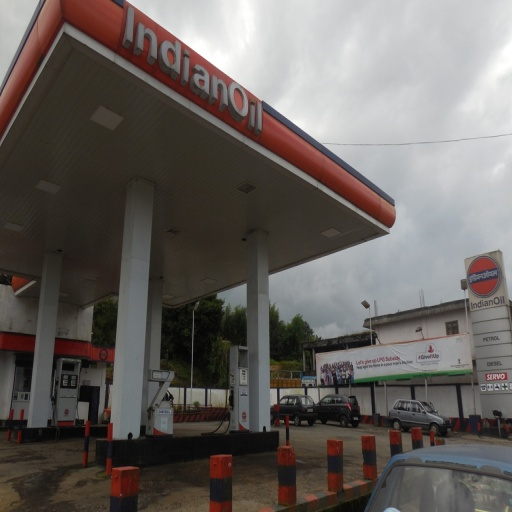roof: (1, 1, 392, 315)
